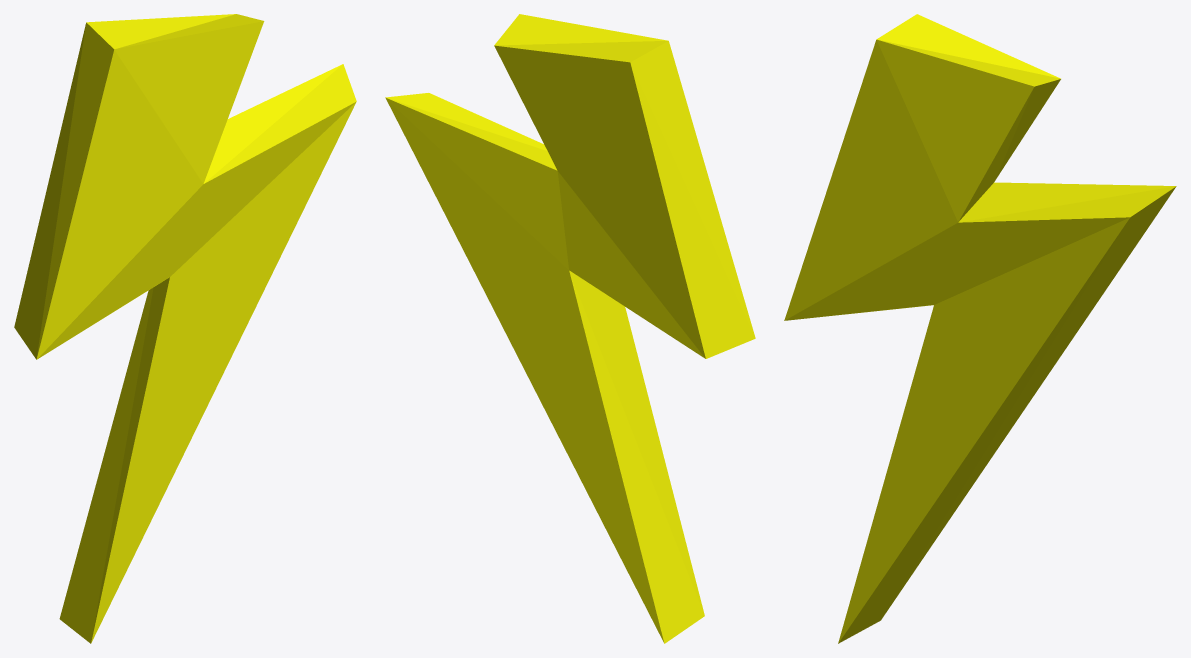
Rendered from lightning.fbx.
3 views of the same model, side by side, from view 1: azimuth 30°, elevation 25°; view 2: azimuth 150°, elevation 25°; view 3: azimuth 330°, elevation 25° (orthographic). The views are drawn at different scales.
Visible parts, largest first — view 1: lightning; view 2: lightning; view 3: lightning.
Boxes of the visible parts, bbox=[...] form: lightning: bbox=[14, 14, 356, 643]; lightning: bbox=[385, 14, 755, 643]; lightning: bbox=[784, 14, 1176, 643].
Bounding box in the file's own units: 58.22 × 95.49 × 11.9.
Materials: 1 (1 with a texture image).
